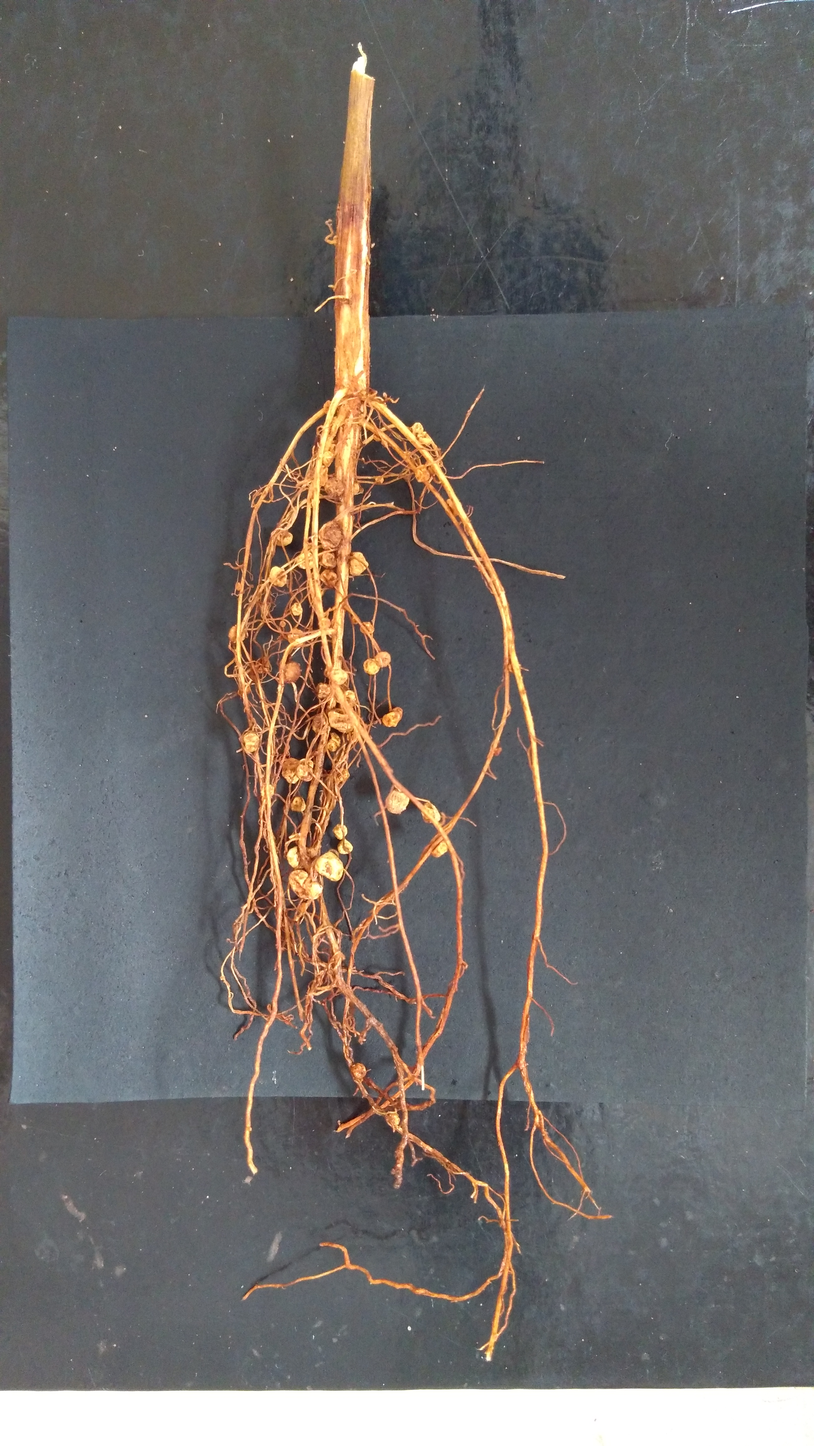nodule: (287, 869, 324, 900), (315, 850, 344, 882), (327, 707, 356, 734), (385, 783, 410, 814), (286, 845, 318, 869), (318, 520, 343, 550), (281, 757, 303, 784), (323, 476, 346, 501), (279, 660, 302, 684), (349, 551, 369, 577), (238, 731, 260, 753), (420, 801, 441, 824), (269, 527, 293, 547), (381, 707, 403, 728), (311, 711, 330, 735), (295, 758, 314, 782), (268, 565, 288, 587), (317, 549, 338, 569), (319, 568, 339, 589), (228, 624, 249, 643), (287, 627, 306, 648), (329, 666, 350, 685), (404, 450, 424, 469), (296, 551, 317, 569), (430, 839, 449, 858), (306, 570, 324, 590), (414, 463, 431, 483), (289, 795, 307, 813), (255, 655, 271, 675), (326, 731, 341, 752), (364, 657, 381, 675), (315, 682, 332, 700), (351, 1061, 367, 1080), (333, 765, 348, 785), (260, 780, 275, 800), (374, 651, 391, 668), (331, 823, 348, 840), (385, 1110, 401, 1128), (445, 498, 460, 517), (343, 689, 358, 708), (337, 838, 353, 855), (416, 431, 433, 446), (318, 465, 329, 488), (410, 421, 424, 439), (327, 415, 339, 435), (425, 458, 439, 475), (321, 450, 335, 467), (359, 621, 375, 635), (237, 683, 252, 697), (327, 617, 337, 637), (401, 467, 413, 483), (346, 729, 359, 743), (353, 480, 364, 496), (291, 602, 302, 616), (318, 617, 331, 628), (323, 399, 332, 414), (492, 745, 503, 757), (298, 901, 308, 914), (323, 665, 333, 677), (329, 443, 338, 456), (311, 497, 321, 508), (283, 653, 292, 665), (373, 432, 383, 442), (374, 475, 385, 484), (351, 614, 360, 625), (359, 402, 367, 413), (380, 438, 389, 447), (236, 582, 242, 592), (381, 391, 389, 398), (279, 621, 286, 627), (370, 242, 375, 249), (360, 390, 367, 395)
